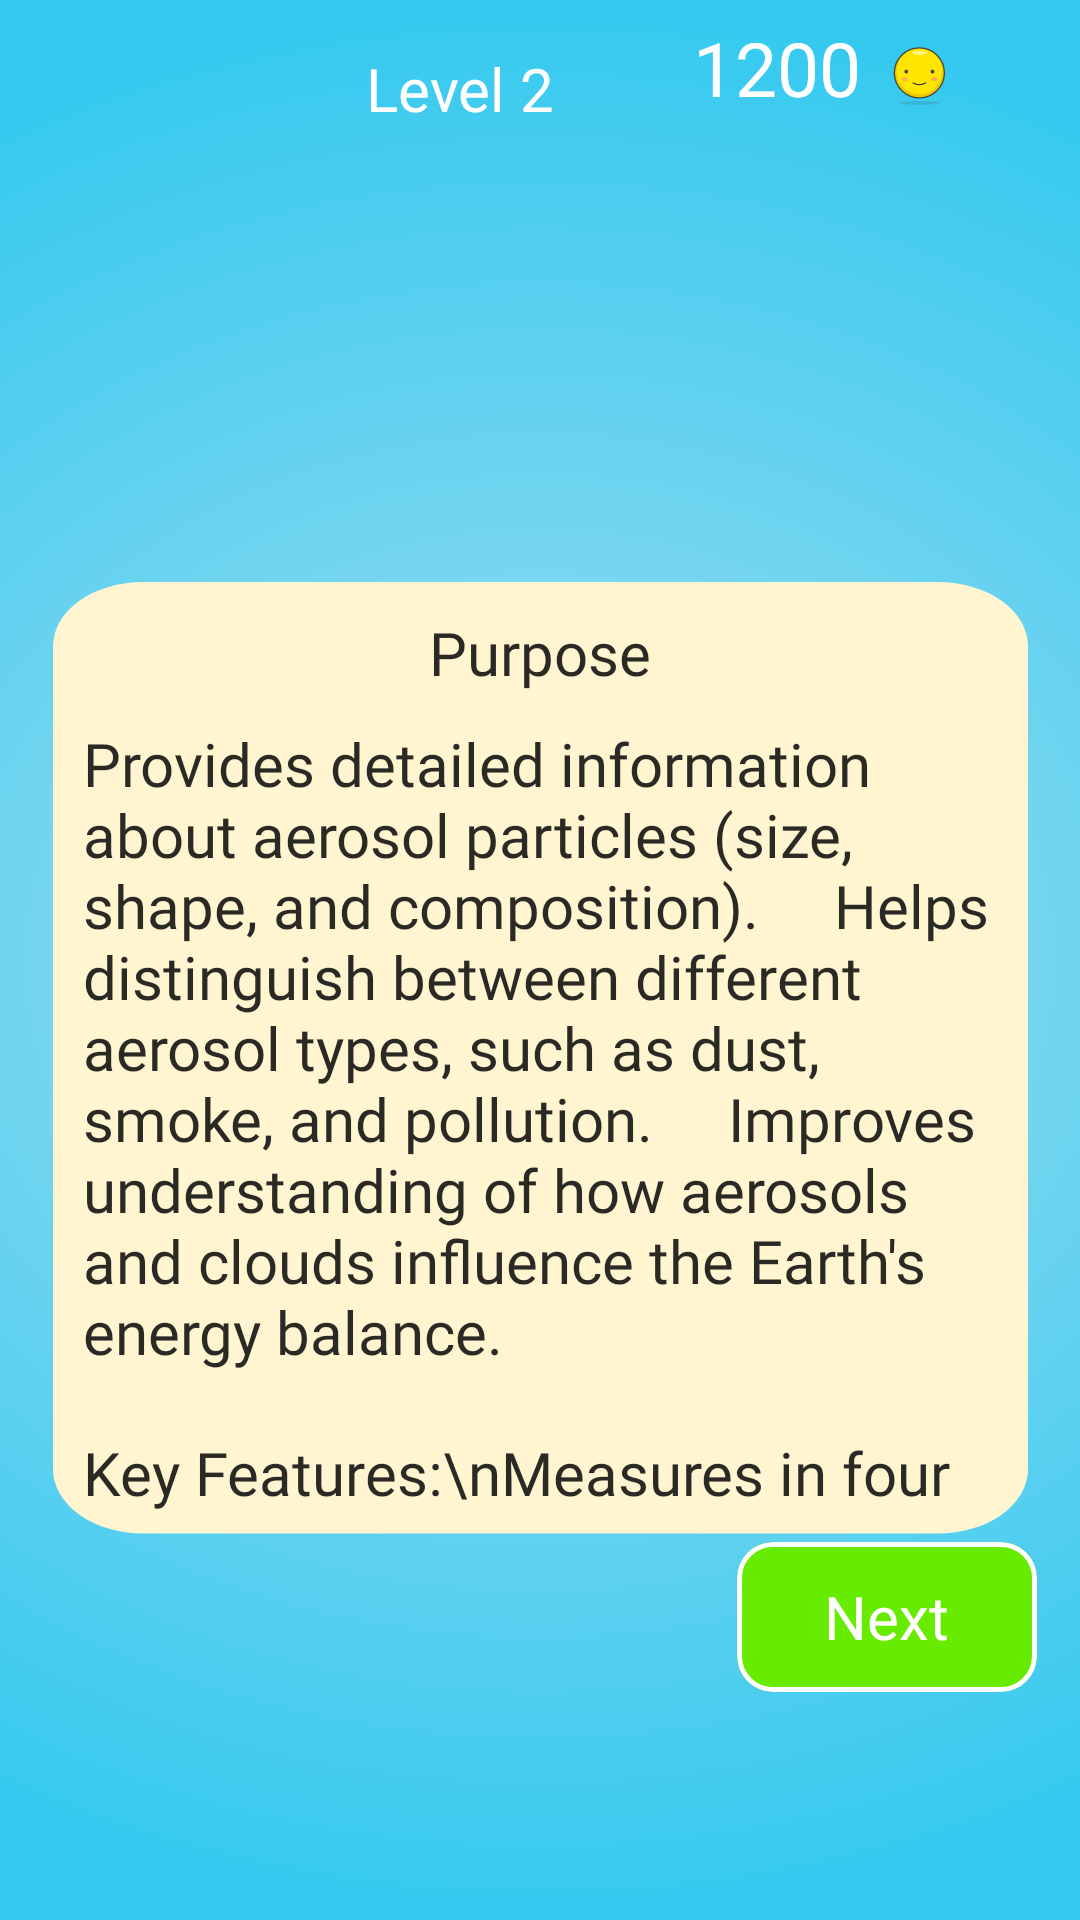

Where icons sit on this 1080px×1920px app screen, as (x1, y1, x2, y2):
smiley face: (893, 47, 945, 104)
